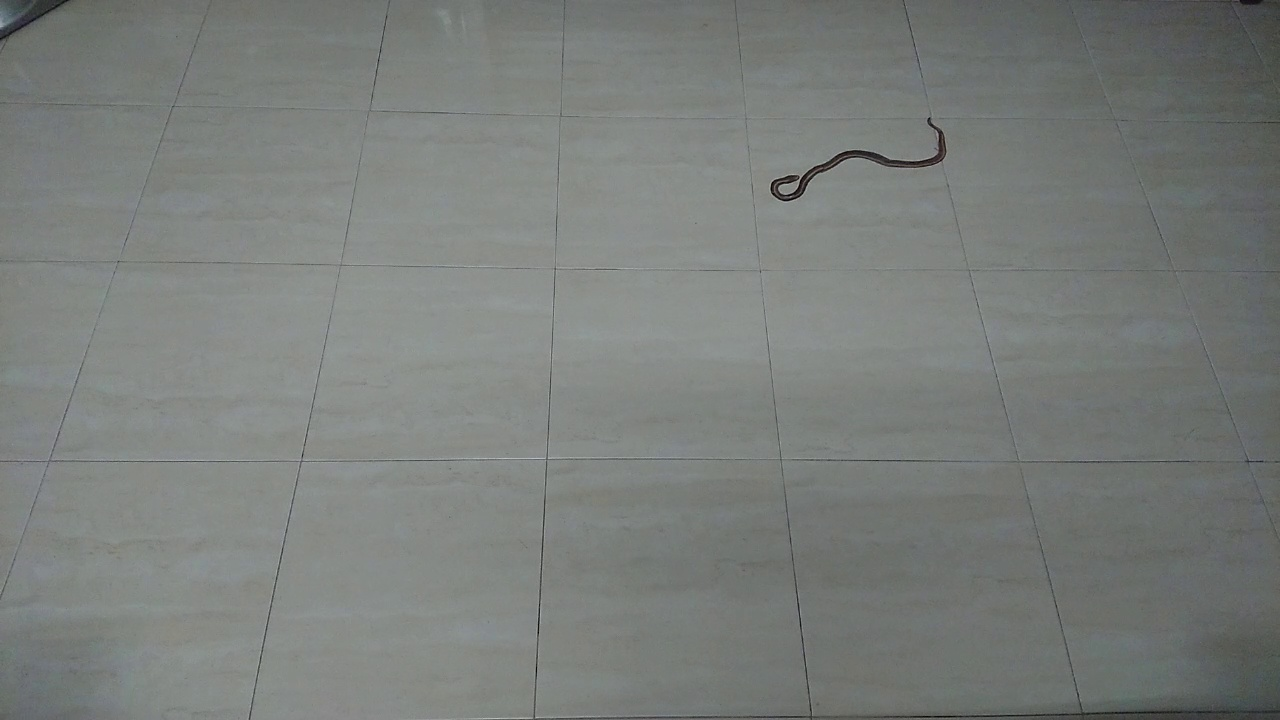snake: (750, 105, 956, 210)
